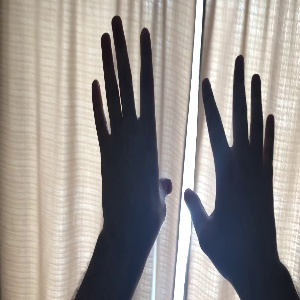hand: (185, 55, 281, 265), (92, 15, 172, 221)
